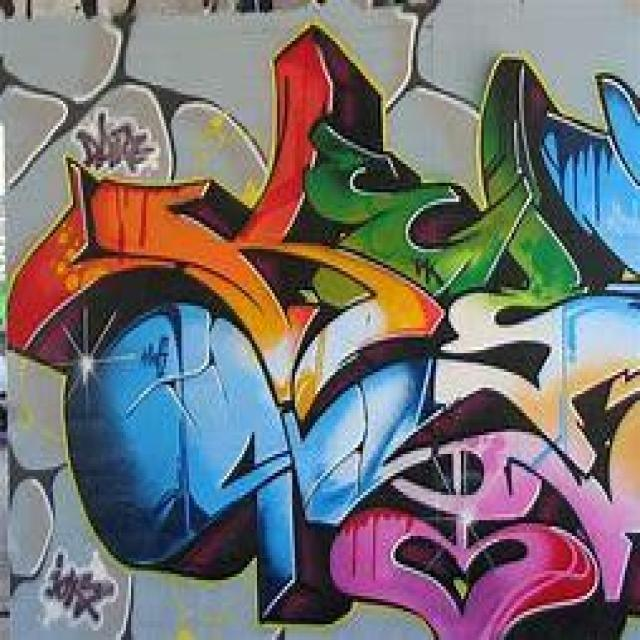nonspitting: (7, 19, 640, 640), (43, 552, 116, 631), (75, 108, 158, 176)
